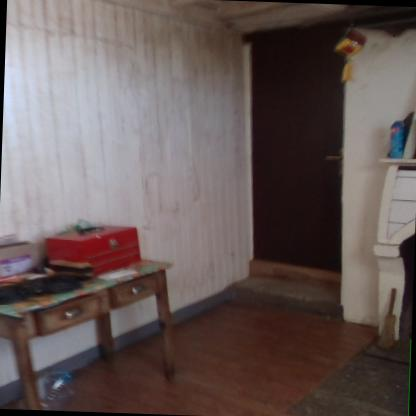closed: (233, 18, 366, 296)
